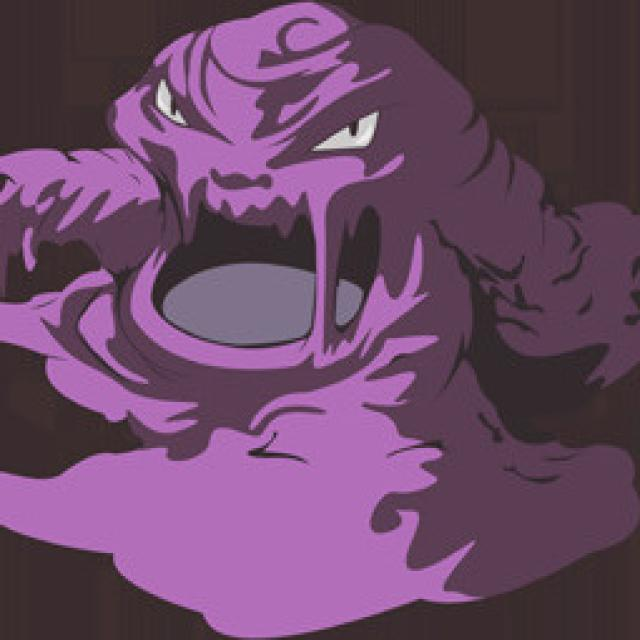Muk: (27, 0, 500, 511)
